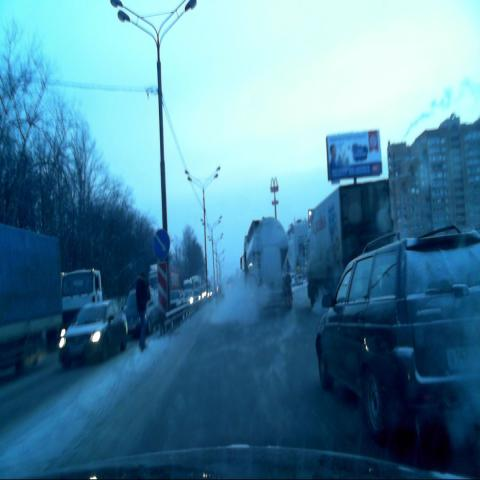4_2_1: (154, 228, 170, 260)
